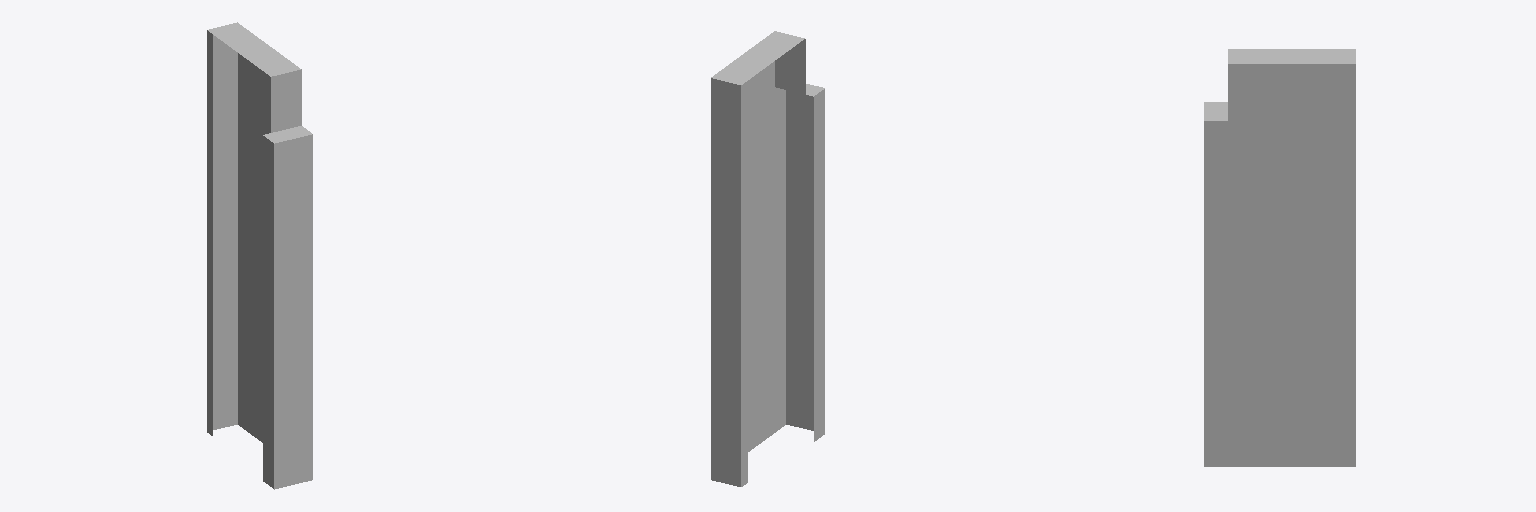
File: original-70.obj
3 views of the same model, side by side, from view 1: azimuth 30°, elevation 25°; view 2: azimuth 150°, elevation 25°; view 3: azimuth 270°, elevation 25° (orthographic).
Parts seen in each view (by area): view 1: WSSTB/WSSTB_1/ID416#ID416; view 2: WSSTB/WSSTB_1/ID416#ID416; view 3: WSSTB/WSSTB_1/ID416#ID416.
Boxes of the visible parts, x1,y1,x2,y2 form: WSSTB/WSSTB_1/ID416#ID416: [207, 22, 312, 489]; WSSTB/WSSTB_1/ID416#ID416: [711, 31, 824, 486]; WSSTB/WSSTB_1/ID416#ID416: [1204, 49, 1355, 466].
Size of the model in its own units: 0.0129 by 0.1274 by 0.0436.